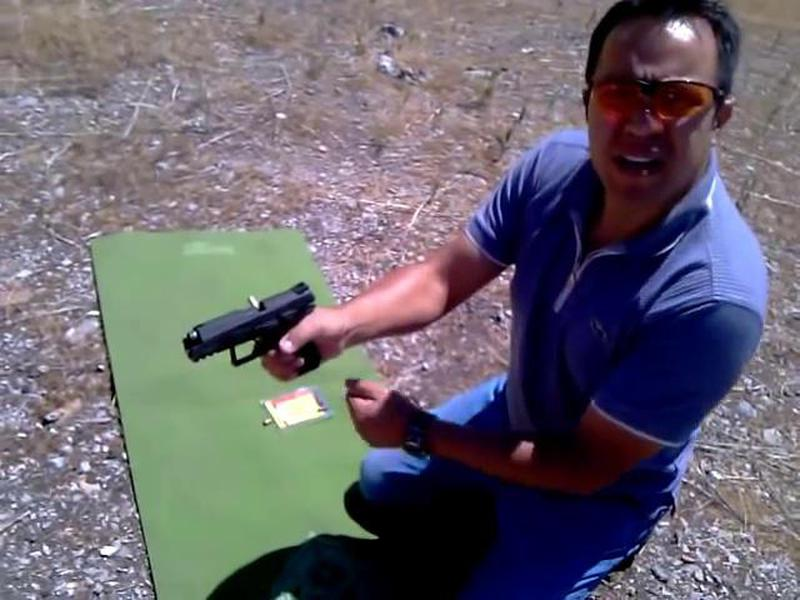Pistola: (176, 273, 340, 386)
